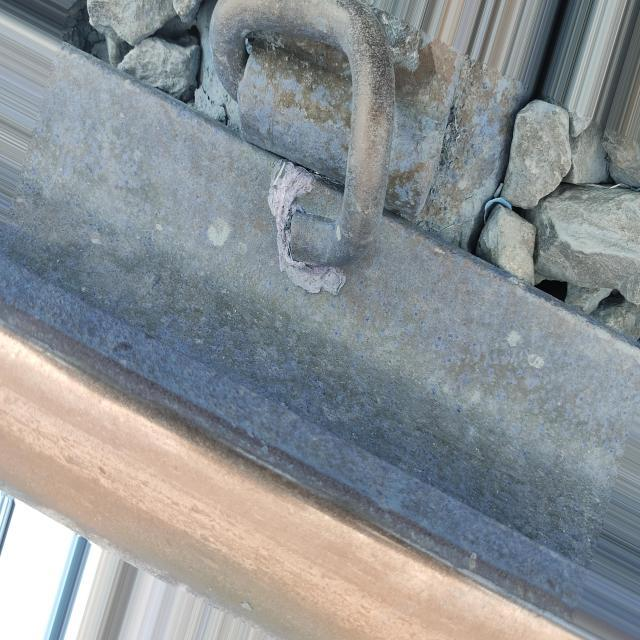Good Fasteners: (209, 0, 529, 266)
